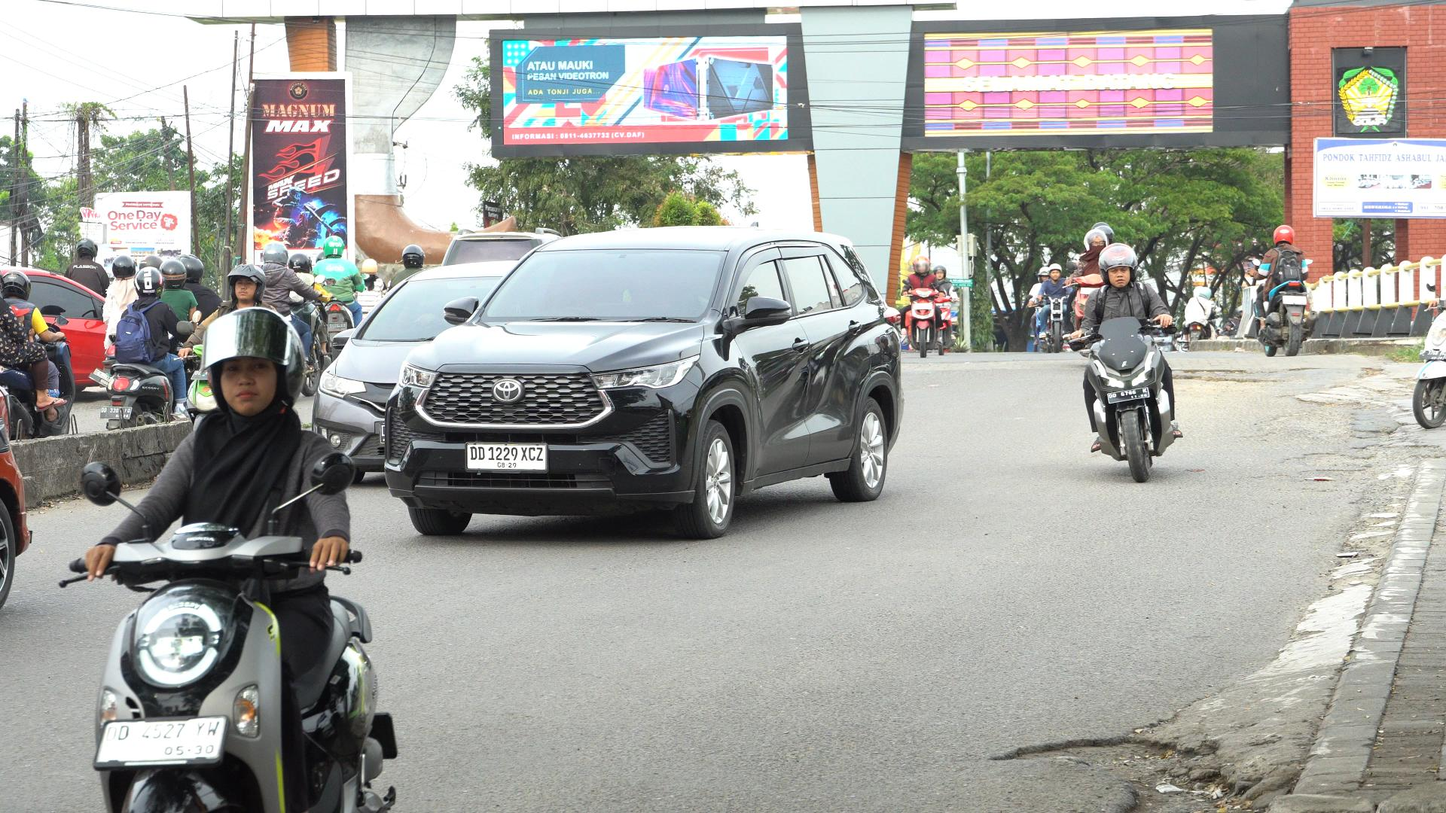number-plate: (1100, 383, 1153, 406)
